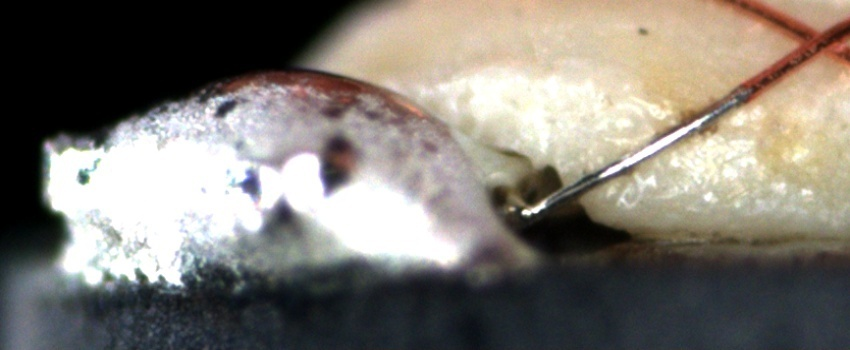CL: (780, 15, 845, 68)
DL: (604, 118, 754, 154)
TS: (520, 88, 750, 219)
